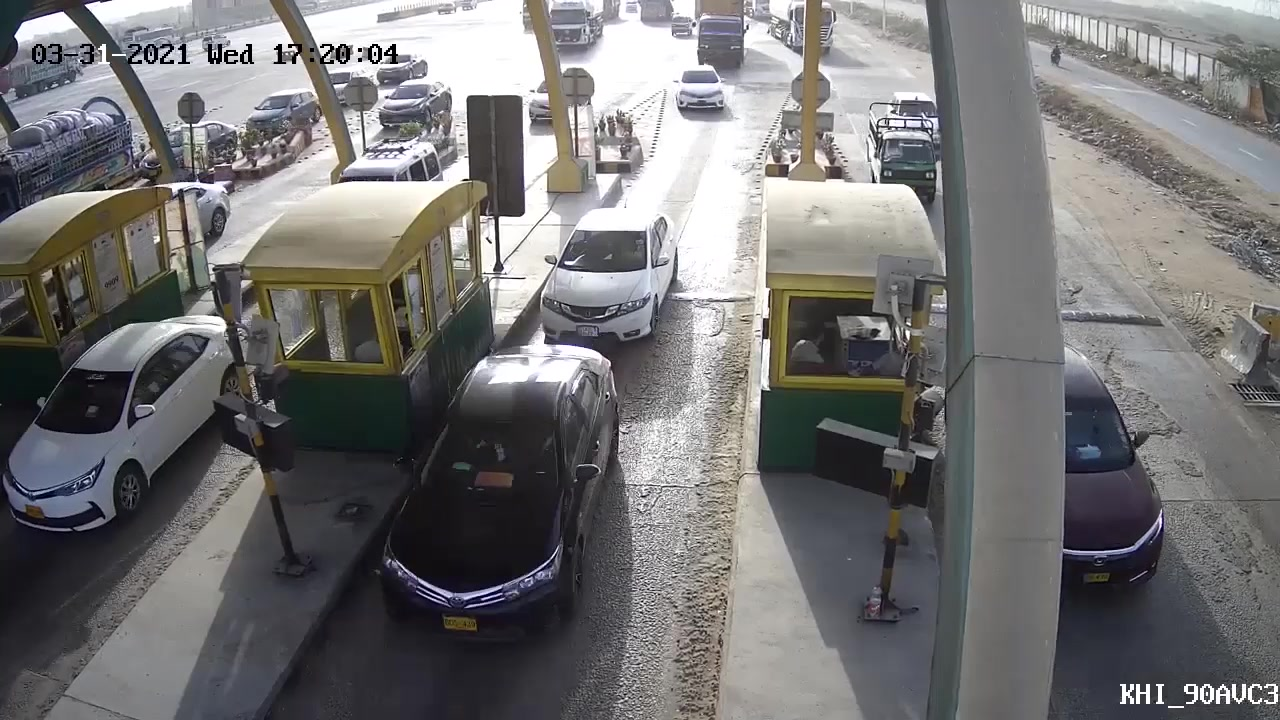F1: (368, 343, 617, 643), (537, 200, 682, 345)
